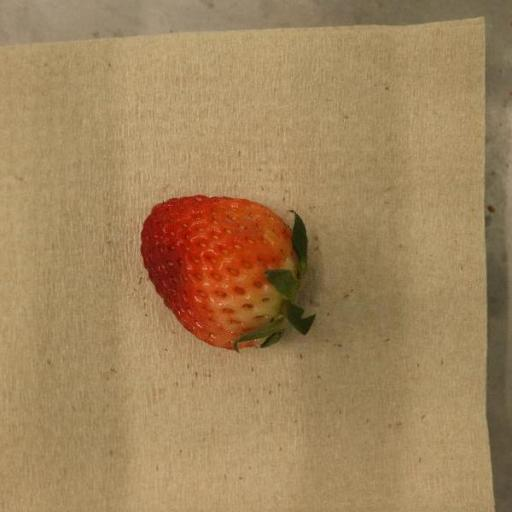Strawberry: (141, 195, 315, 353)
